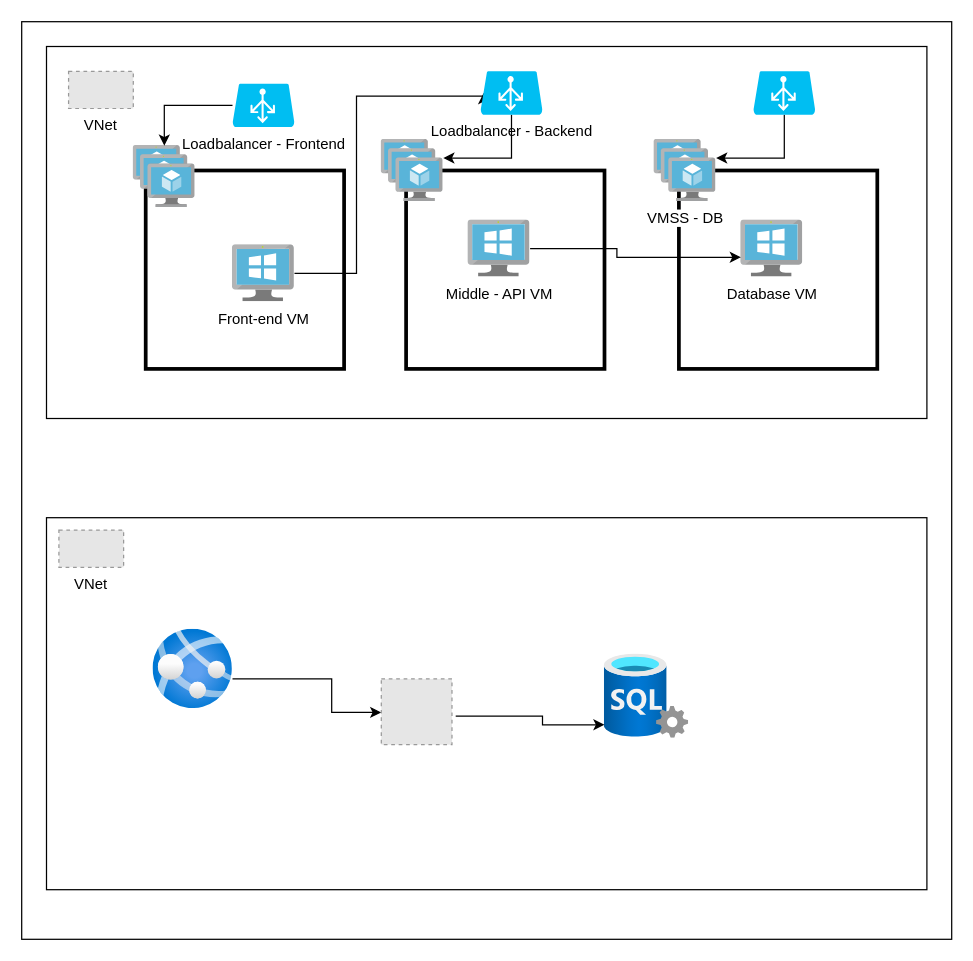
Image size: 973x961. Some labels were removed from this diagram. Grey dashed boxes stand in for pictures. The centre of each missing label's shape, as x and y in pixels:
"Loadbalancer - DB" belongs at (x=784, y=92).
"SQL Server" belongs at (x=646, y=695).
"VMSS - Frontend" belongs at (x=164, y=176).
"VMSS - Middle" belongs at (x=412, y=170).
